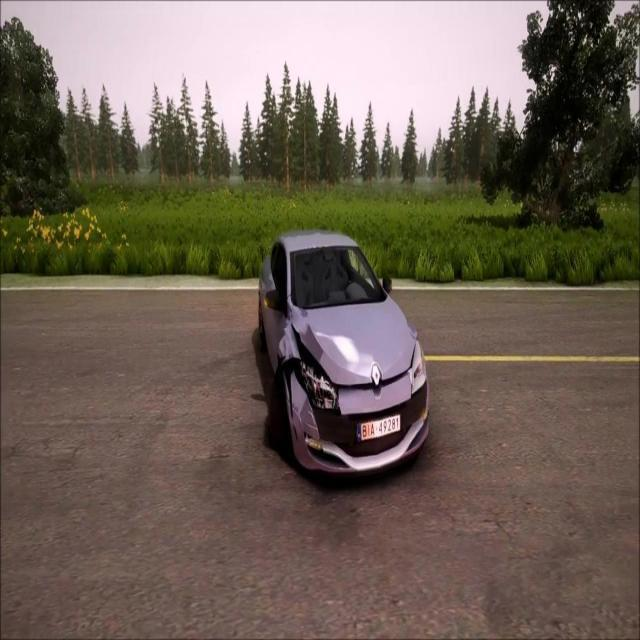moderate: (255, 225, 432, 490)
